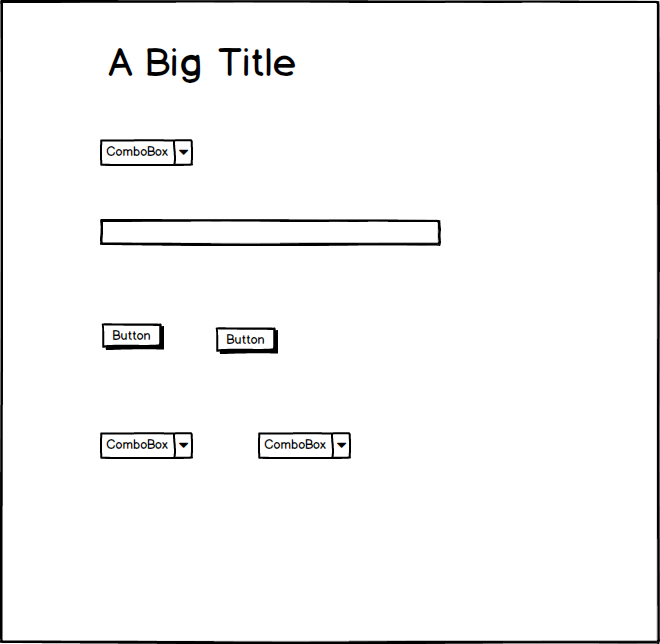button: (209, 323, 295, 363), (96, 318, 170, 354)
h1: (99, 40, 314, 88)
input: (96, 214, 450, 248)
select_box: (89, 133, 207, 172), (96, 428, 200, 462), (250, 429, 357, 462)
